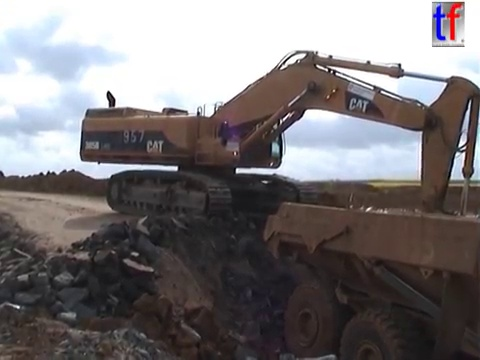excavator: (76, 47, 479, 269)
truck: (258, 186, 480, 360)
